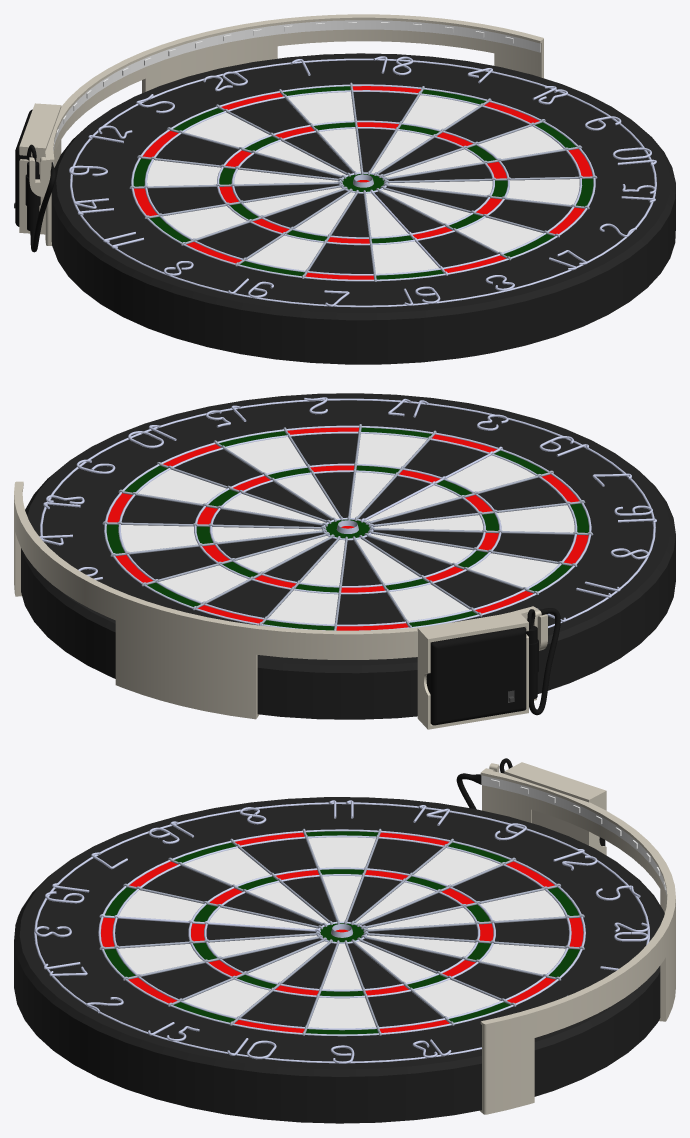
File: Dart_Light.glb
3 views of the same model, one above another, from view 1: azimuth 30°, elevation 25°; view 2: azimuth 150°, elevation 25°; view 3: azimuth 270°, elevation 25° (orthographic). The views are drawn at different scales.
Visible parts, largest first — view 1: Dart Board-1, DartBoard Light RingM1-1; view 2: Dart Board-1, DartBoard Light RingM1-1; view 3: Dart Board-1, DartBoard Light RingM1-1.
Part boxes in pixels (bbox=[...]): Dart Board-1: bbox=[51, 53, 675, 364]; DartBoard Light RingM1-1: bbox=[14, 14, 543, 252]; Dart Board-1: bbox=[21, 393, 675, 719]; DartBoard Light RingM1-1: bbox=[14, 481, 560, 729]; Dart Board-1: bbox=[14, 797, 664, 1123]; DartBoard Light RingM1-1: bbox=[456, 758, 675, 1114].
Bounding box in the file's own units: 0.4597 × 0.0836 × 0.464.
